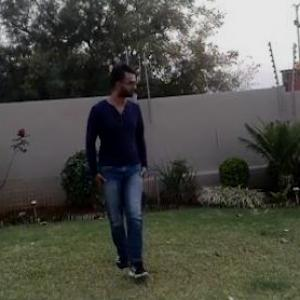follow: (86, 56, 157, 289)
